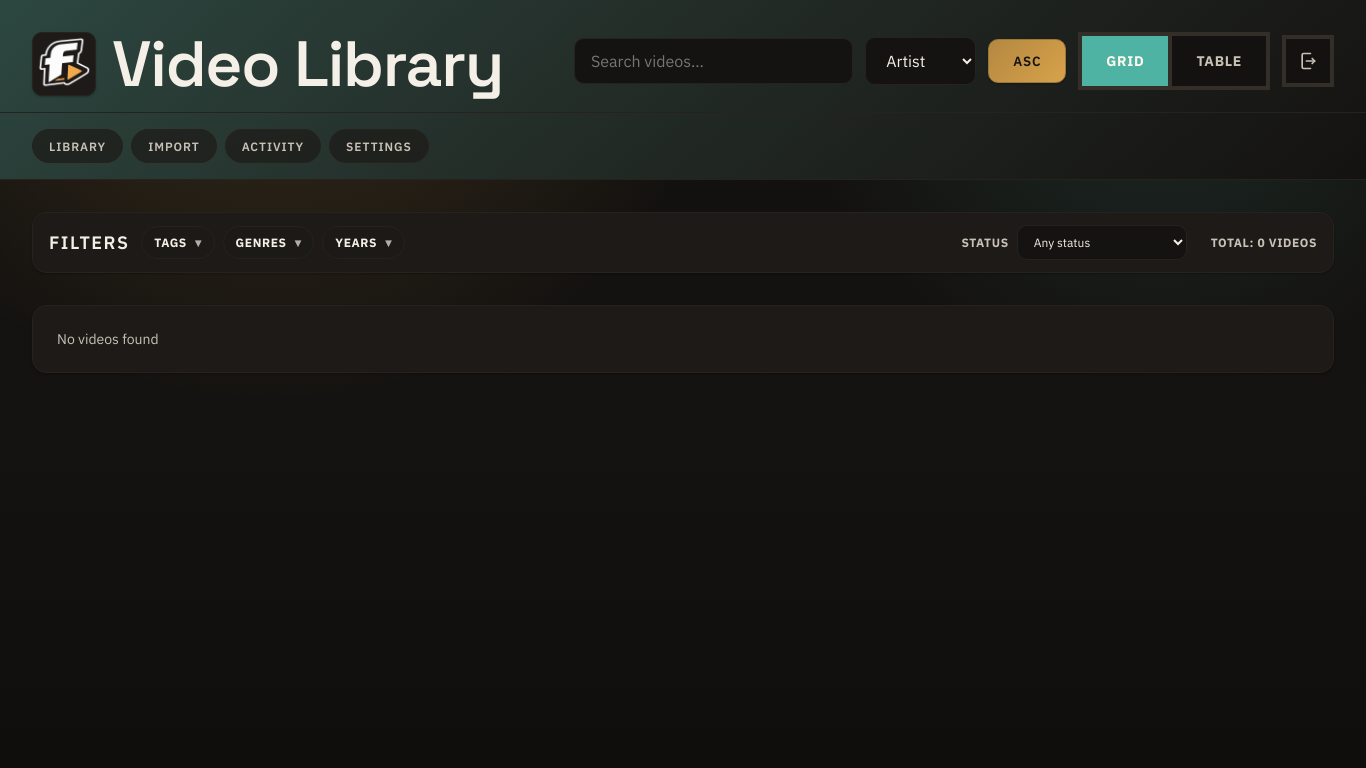
Test: LibraryPage › renders facet options when facets load
The image size is (1366, 768).
Click the button with aria-label "tags filters". click: (178, 242)
box: [141,226,214,259]
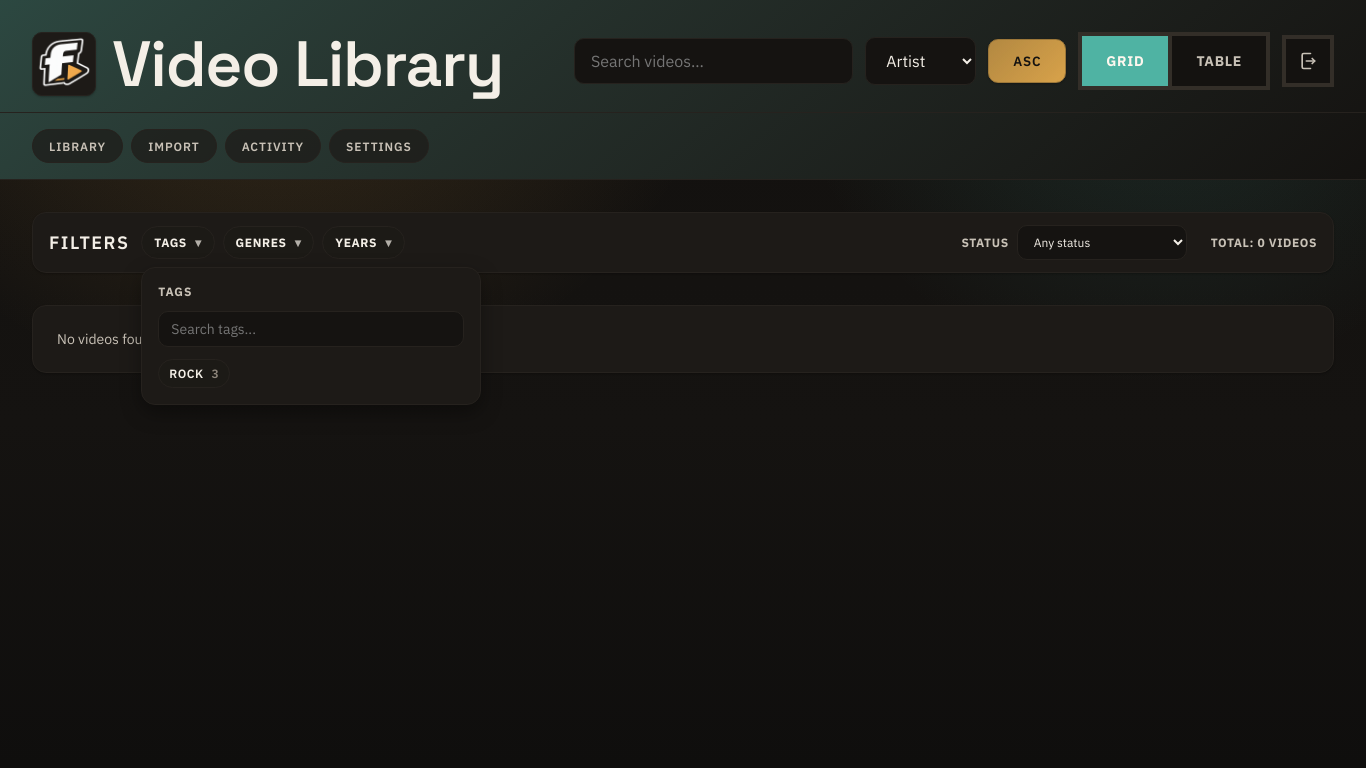
Expected: the button "rock3" is shown, [158,359,230,388]
